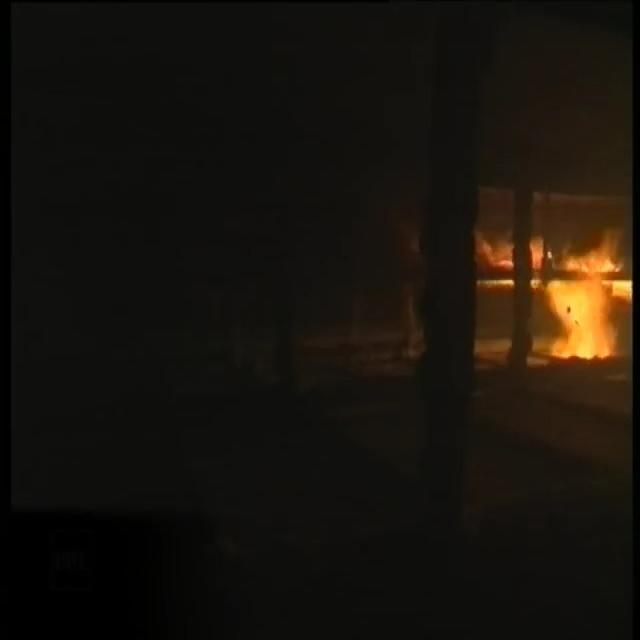Fire: (446, 186, 640, 404)
